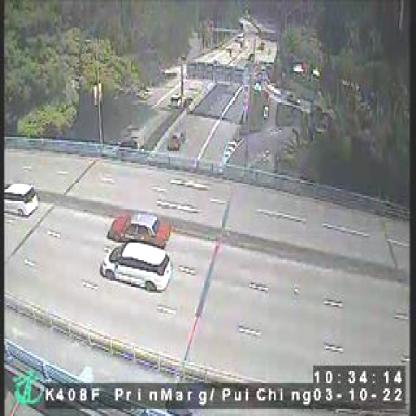Car: (100, 241, 172, 288), (107, 208, 169, 243), (1, 182, 36, 215)
